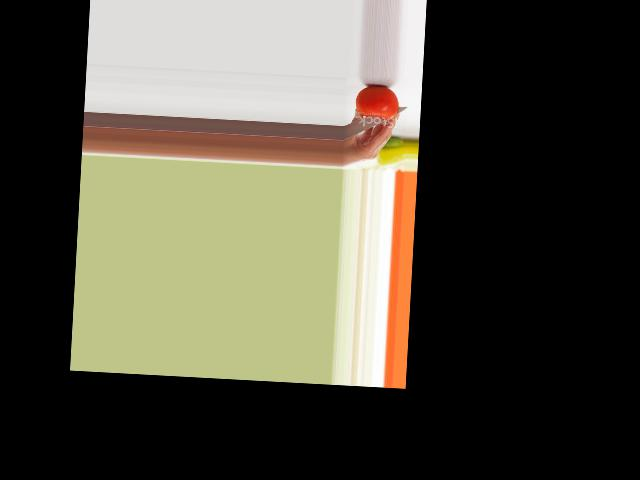tomato: (354, 84, 399, 120)
